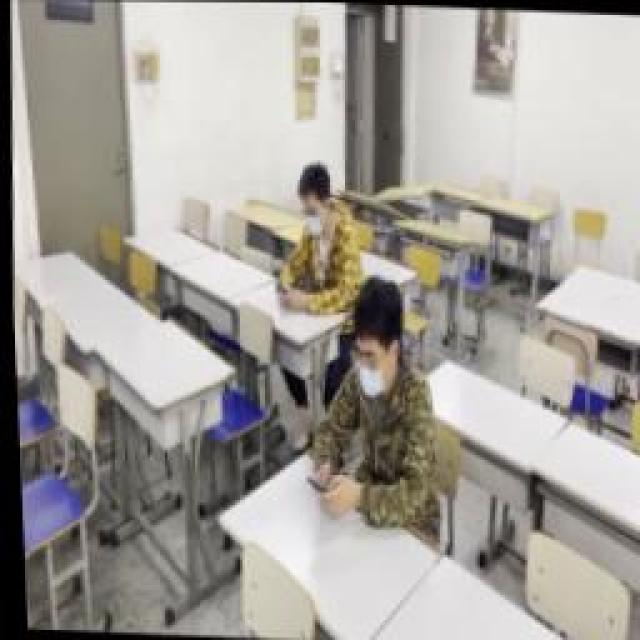phone: (302, 315, 440, 530), (270, 162, 355, 312)
